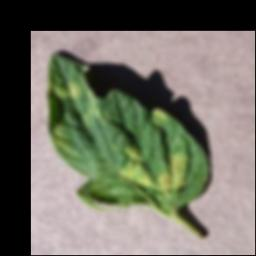Leaf_Mold: (118, 142, 190, 192), (46, 75, 83, 99), (151, 107, 169, 120)
